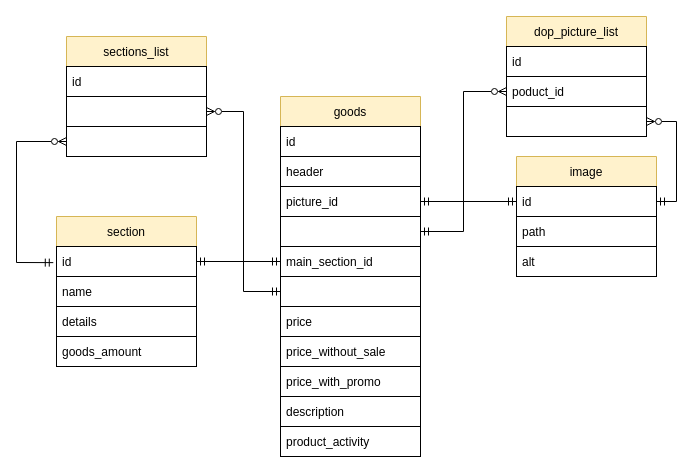
Image size: 693x473. Some labels were removed from this diagram. Each missing label, with the centre of its shape:
dop_picture_id: the point at 350,231
image_id: the point at 576,121
product_id: the point at 136,111
section_id: the point at 136,141
sections_id: the point at 350,291
